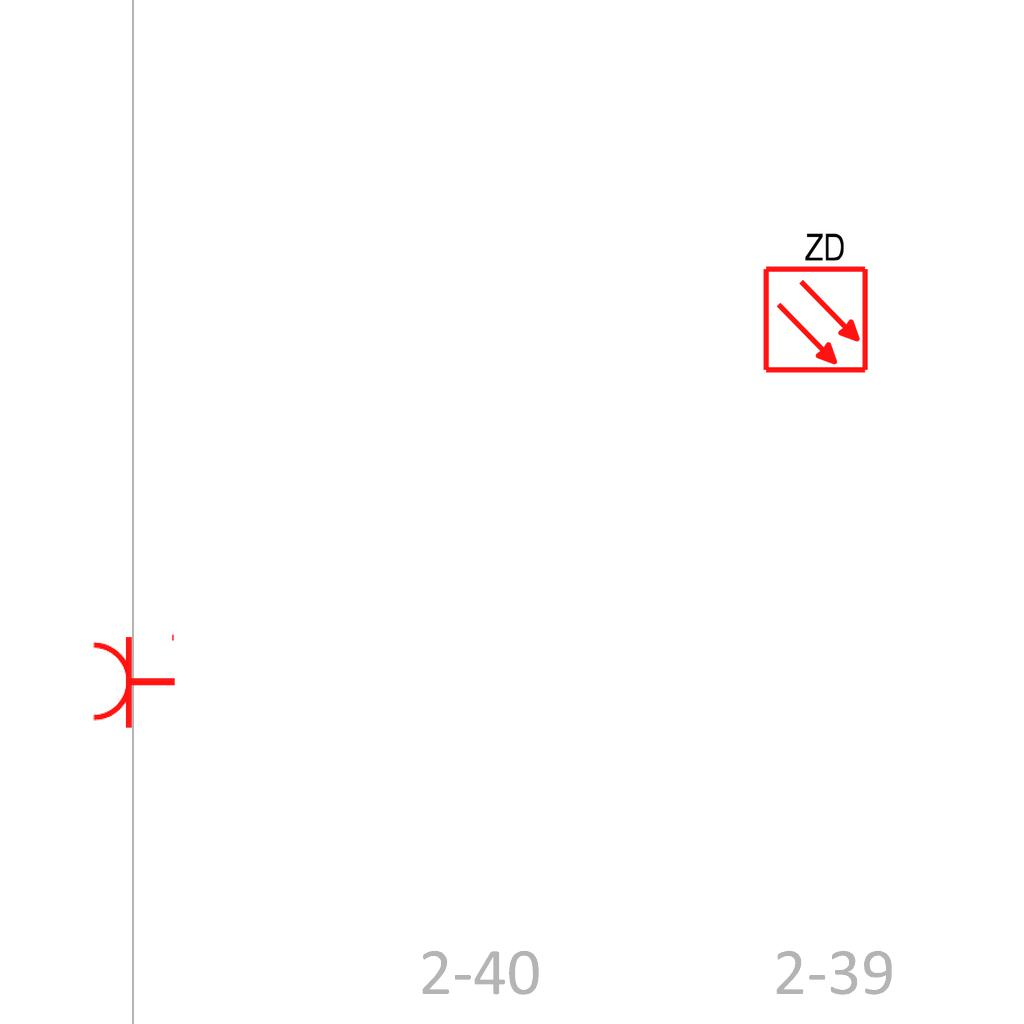Schukosteckdose_einfach: (90, 630, 177, 730)
ZD_Melder_in_Zwischendecke_mit_Revisionsoeffnung_mind_40_x_40_cm: (757, 226, 871, 375)
